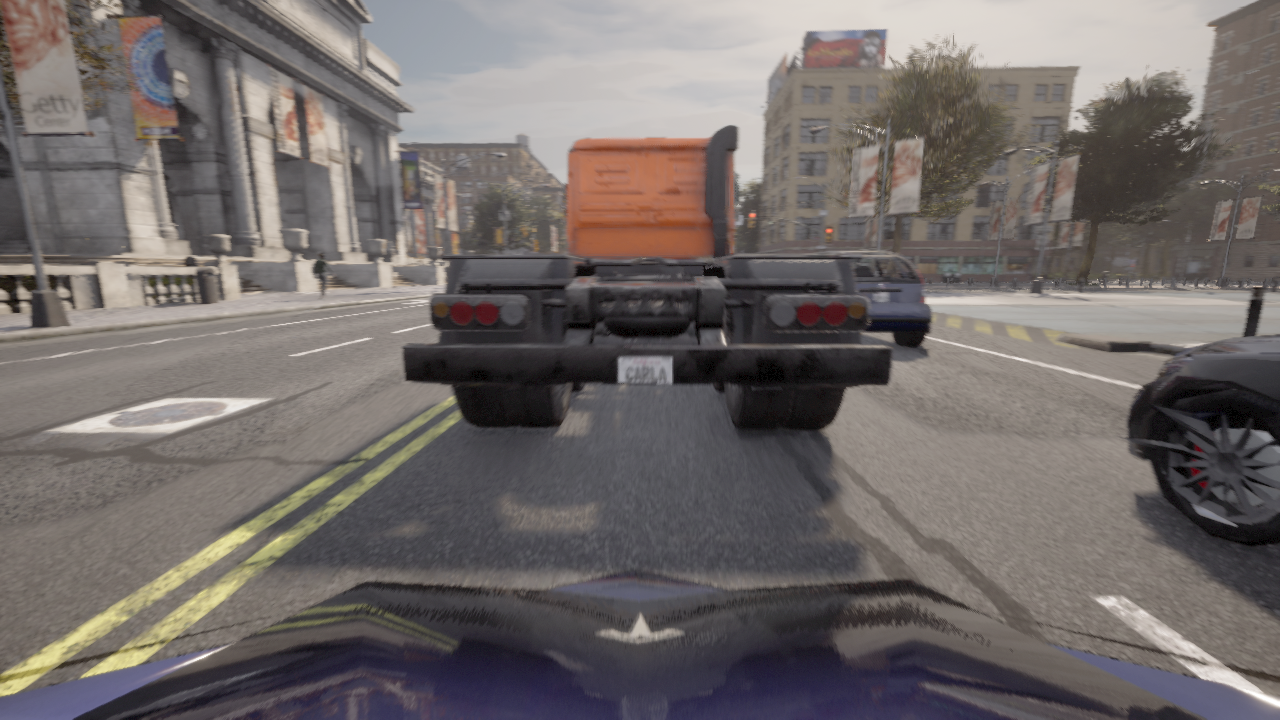cyclist: (0, 569, 1279, 719), (401, 125, 893, 429), (1123, 335, 1279, 546), (814, 250, 931, 347)
pedestrian: (312, 253, 334, 300)
